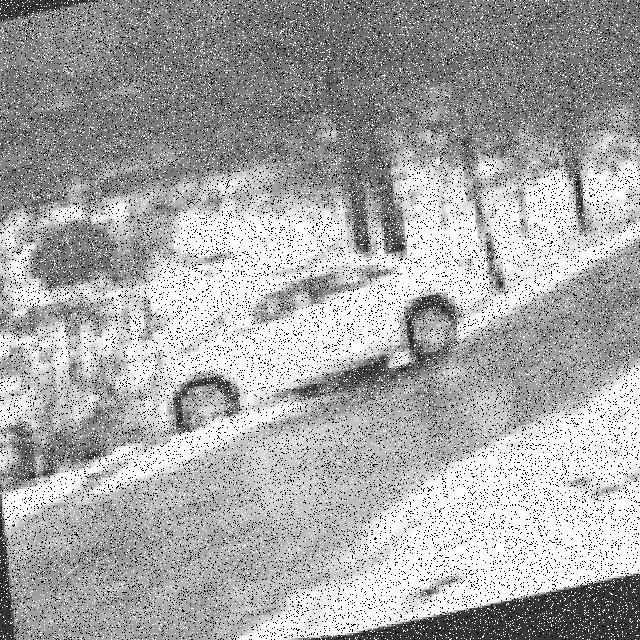ice-road: (5, 240, 640, 640)
